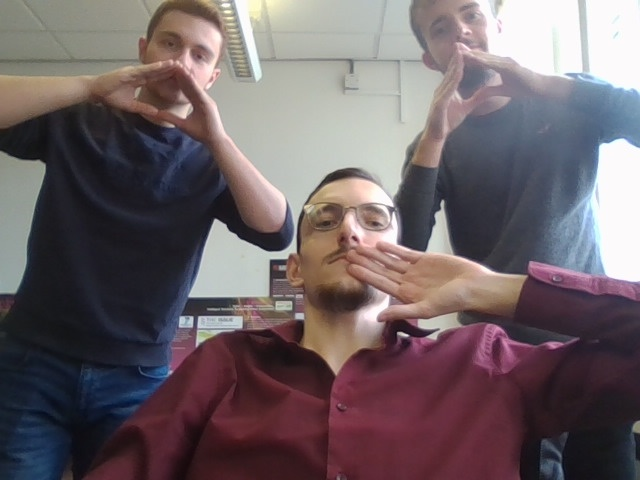thankyou: (92, 60, 223, 142), (424, 43, 538, 131)
